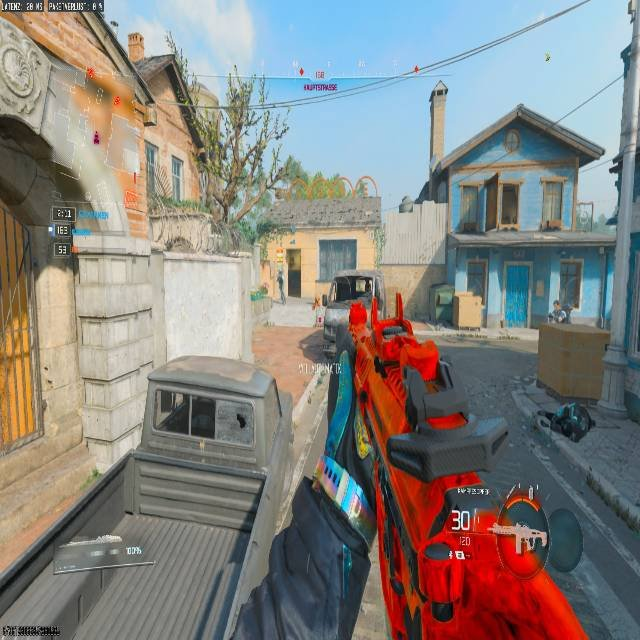head: (552, 299, 559, 307)
player: (545, 299, 572, 323), (275, 269, 286, 302)
